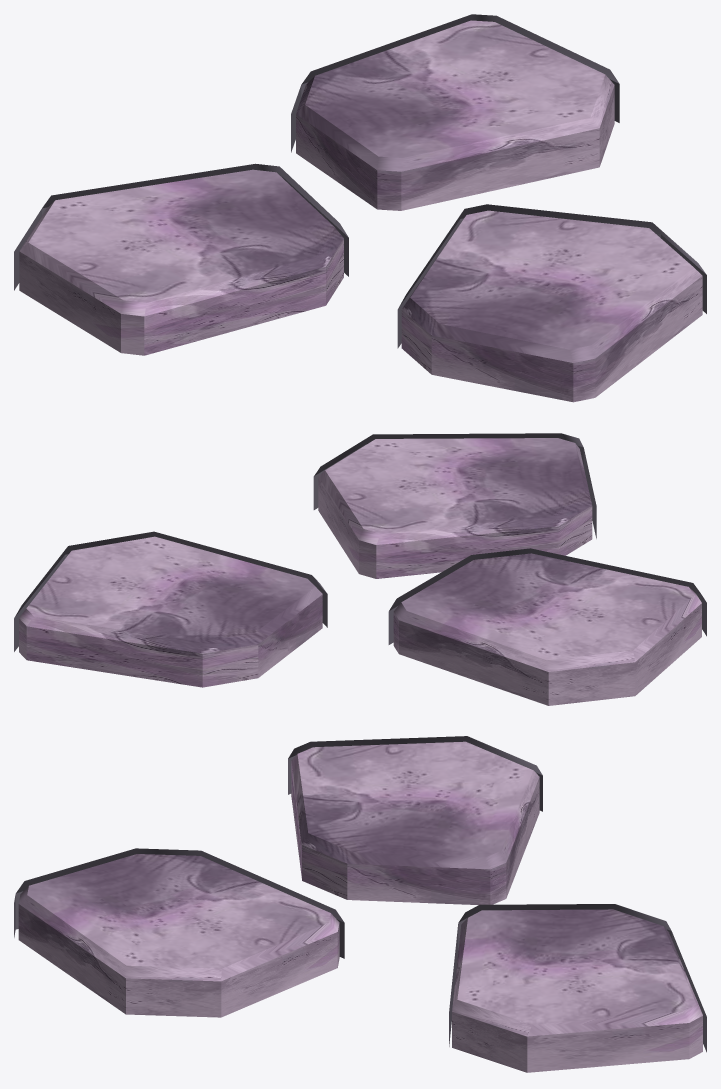
File: entity42900.gltf
3 views of the same model, one above another, from view 1: azimuth 30°, elevation 25°; view 2: azimuth 150°, elevation 25°; view 3: azimuth 270°, elevation 25° (orthographic). The views are drawn at different scales.
Parts seen in each view (by area): view 1: node_mesh_rocks_path_016; view 2: node_mesh_rocks_path_016; view 3: node_mesh_rocks_path_016.
Part boxes in pixels (x1=…): node_mesh_rocks_path_016: x1=14, y1=14, x2=706, y2=402; node_mesh_rocks_path_016: x1=14, y1=433, x2=706, y2=705; node_mesh_rocks_path_016: x1=14, y1=736, x2=706, y2=1072.
Bounding box in the file's own units: 188 × 17.29 × 193.
2 materials, 1 textured.
